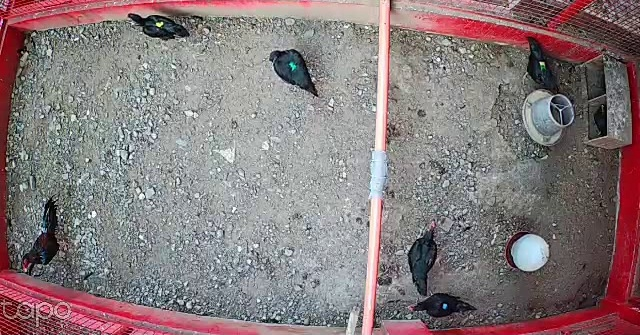Chicken: (406, 216, 445, 302), (267, 45, 322, 98), (518, 34, 561, 97), (407, 289, 477, 322), (125, 10, 190, 43)
Rooster: (20, 196, 74, 277)
Saddle_Color_Blue: (442, 302, 449, 309)
Saddle_Color_Yellow: (155, 21, 164, 29)
Saddle_Color_YellowGreen: (539, 60, 546, 70)
